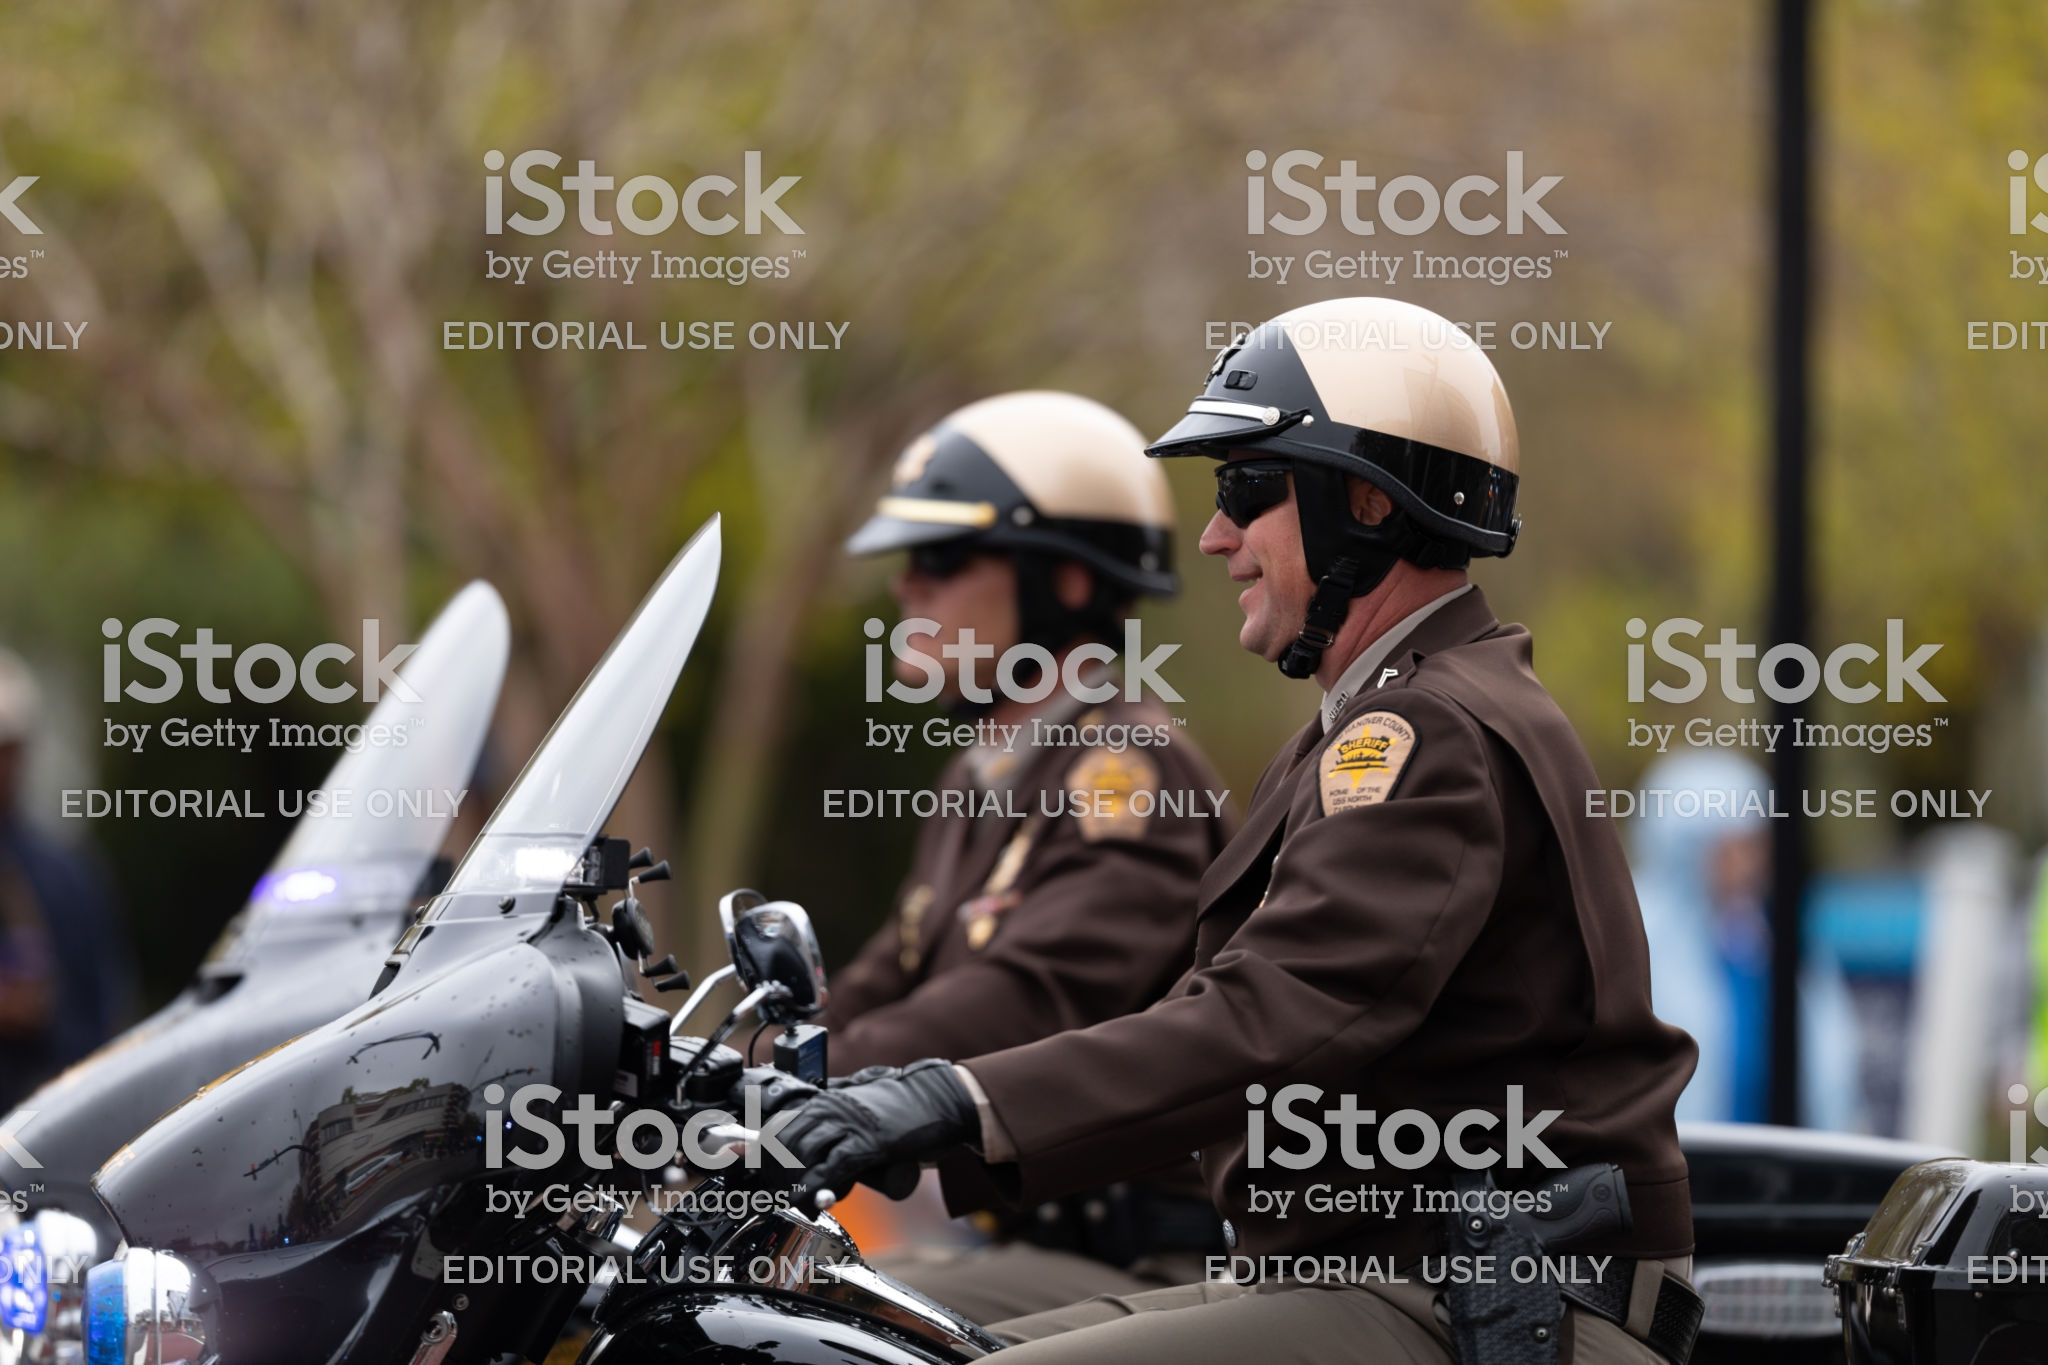helmet: (1171, 305, 1549, 529), (854, 388, 1188, 565)
